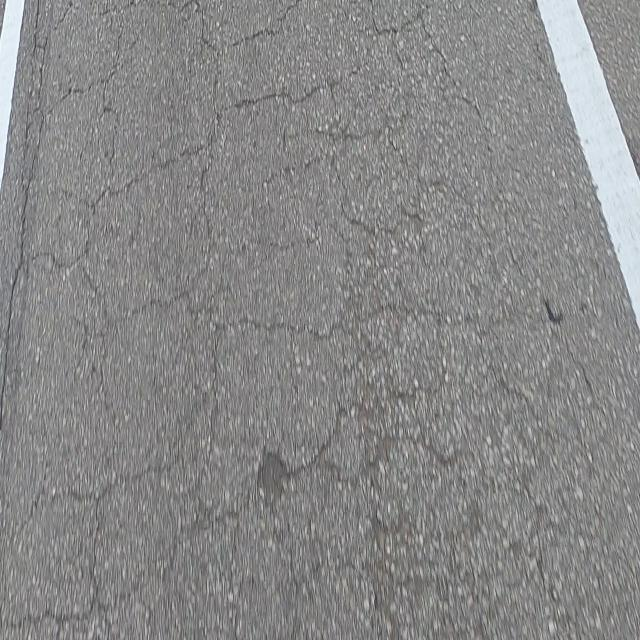Retak-Buaya: (0, 1, 597, 640)
